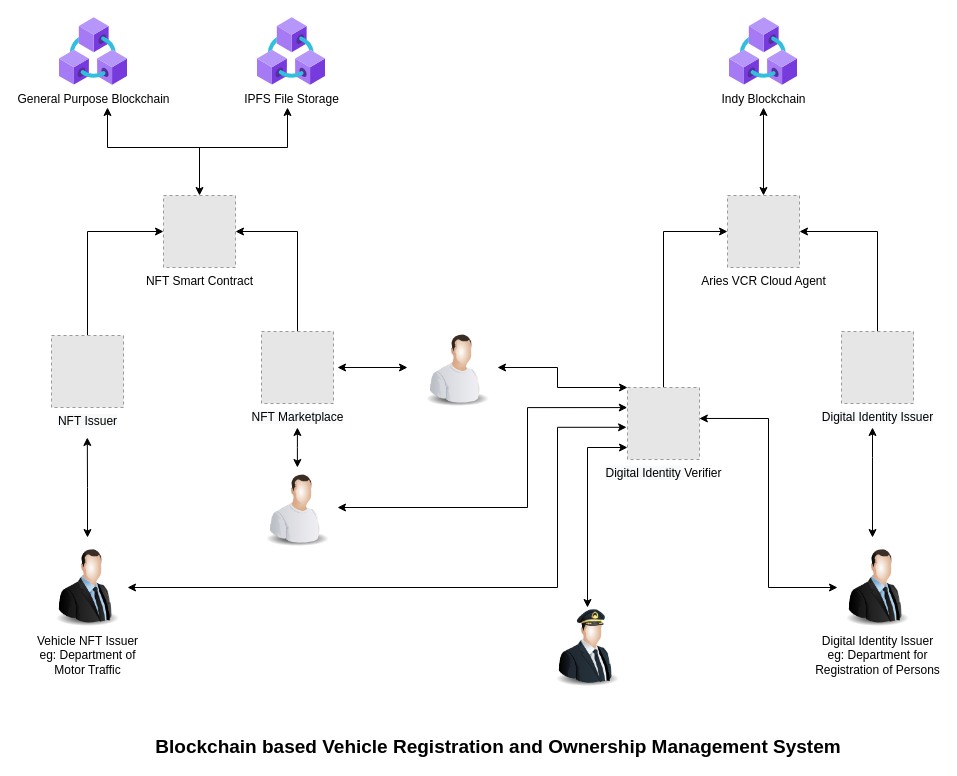
This 957x776 diagram has some shape labels left out. Grey dashed boxes stand in for pictures. The box of each missing label's shape, as (x1, y1, x2, y2) in pixels:
Third Party eg: Police: (547, 607, 627, 687)
Vehicle Buyer: (257, 467, 337, 547)
Vehicle Seller: (417, 327, 497, 407)
